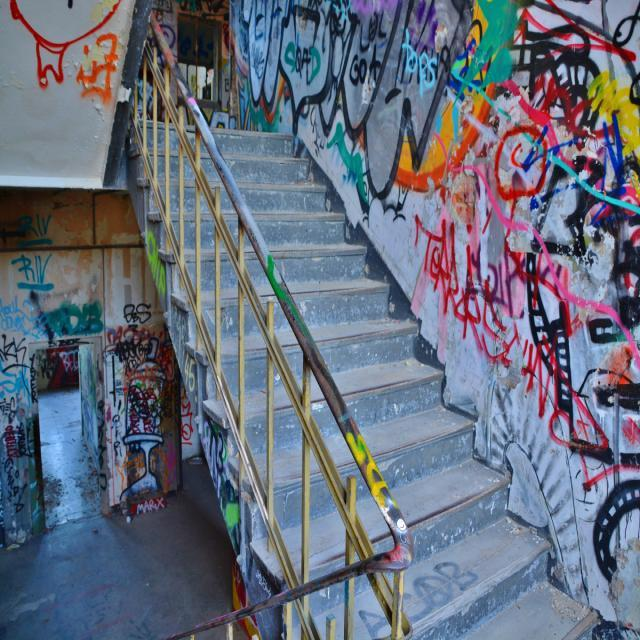-: (473, 0, 640, 586), (238, 0, 472, 194), (409, 215, 520, 372), (107, 298, 169, 512), (1, 208, 100, 338), (8, 3, 120, 106), (360, 558, 478, 634), (0, 340, 33, 520), (204, 420, 241, 548), (264, 256, 312, 342), (347, 428, 393, 512), (168, 292, 195, 401), (176, 100, 236, 132), (142, 0, 174, 58), (42, 344, 76, 388), (144, 228, 163, 300), (175, 0, 224, 14), (222, 22, 230, 95)
